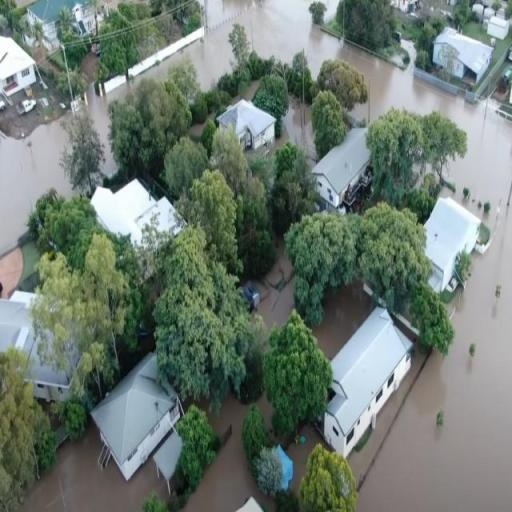flood: (143, 0, 512, 512), (17, 424, 167, 512), (182, 398, 275, 512), (0, 120, 71, 255), (313, 283, 375, 359), (88, 86, 128, 171), (258, 246, 294, 329), (282, 95, 315, 160), (287, 430, 321, 489), (256, 396, 274, 430), (242, 80, 260, 100), (326, 0, 336, 16)
house: (313, 306, 424, 458), (85, 364, 185, 483), (306, 124, 377, 210), (420, 192, 479, 294), (0, 32, 42, 120), (434, 25, 492, 85), (214, 101, 275, 144)
